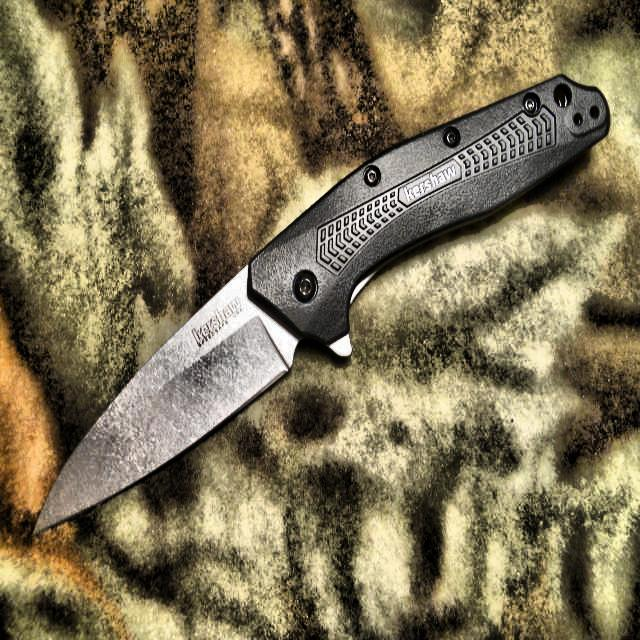knife: (33, 80, 608, 541)
